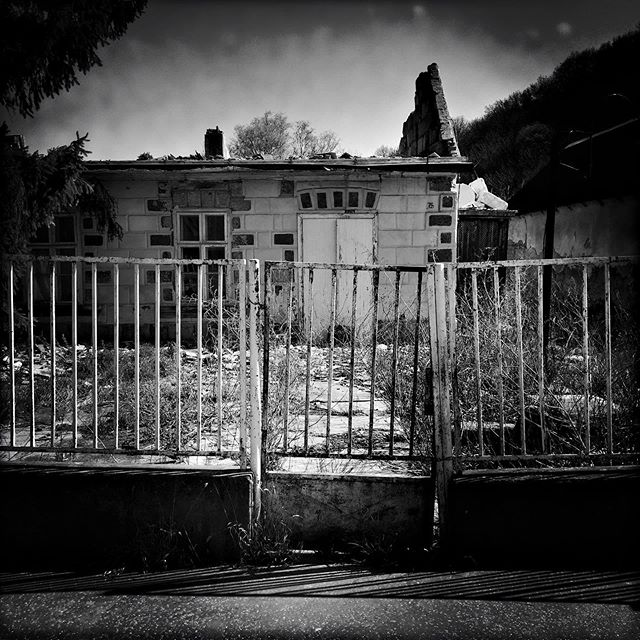building: (22, 147, 461, 329)
door: (299, 218, 378, 353)
sky: (75, 1, 640, 150)
